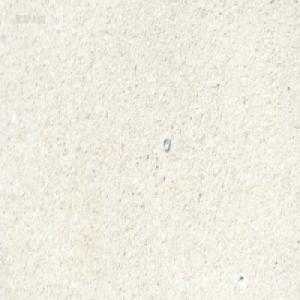Washer: (162, 136, 170, 151)
